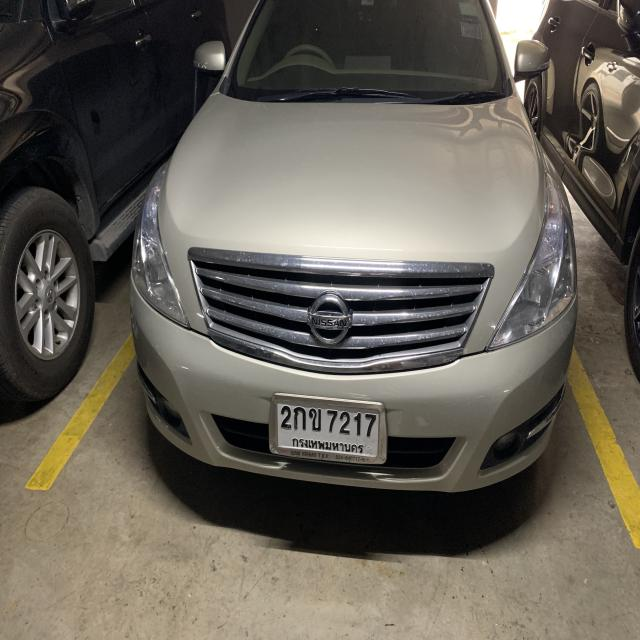license_plate: (266, 388, 389, 469)
